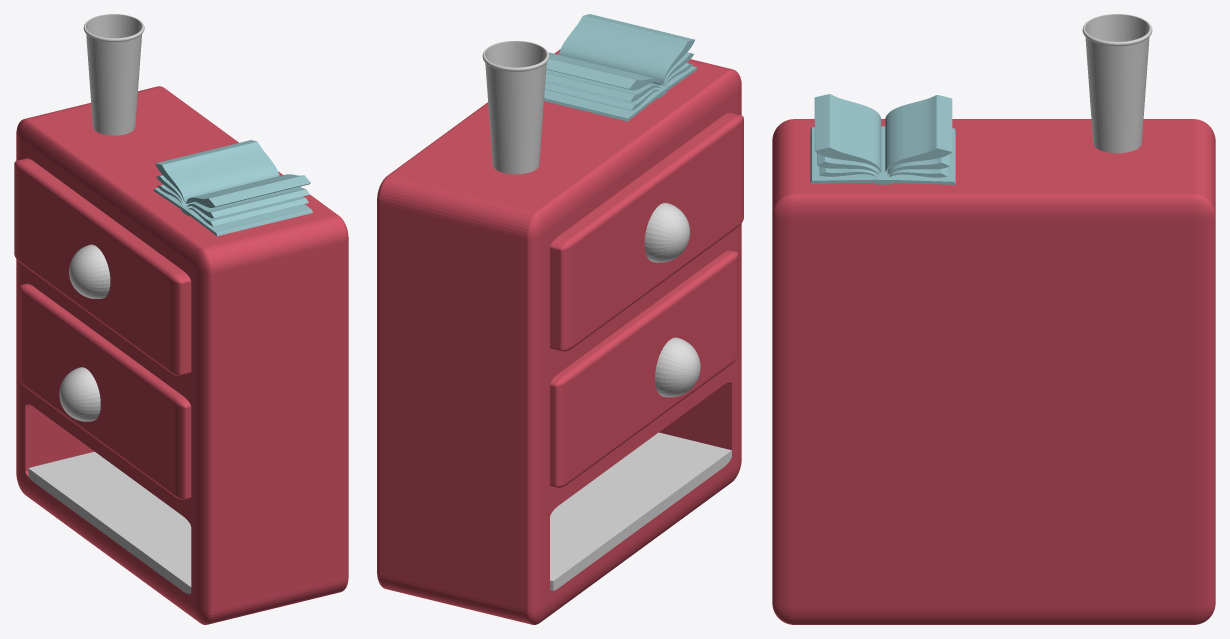
The model's file is Sizzling Stantia.glb.
The picture shows the model from 3 angles, left to right: view 1: azimuth 30°, elevation 25°; view 2: azimuth 150°, elevation 25°; view 3: azimuth 270°, elevation 25°; orthographic projection. The views are drawn at different scales.
Visible parts, largest first — view 1: Mesh_Mesh_head_geo.001_lambert2SG.001; view 2: Mesh_Mesh_head_geo.001_lambert2SG.001; view 3: Mesh_Mesh_head_geo.001_lambert2SG.001.
Boxes of the visible parts, x1,y1,x2,y2 form: Mesh_Mesh_head_geo.001_lambert2SG.001: [14, 14, 348, 624]; Mesh_Mesh_head_geo.001_lambert2SG.001: [377, 14, 743, 624]; Mesh_Mesh_head_geo.001_lambert2SG.001: [772, 14, 1215, 624].
Size of the model in its own units: 41 by 96 by 70.
